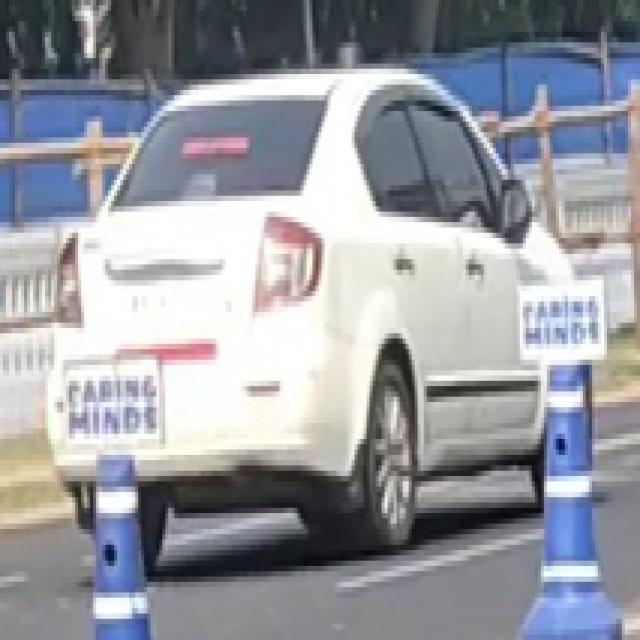car: (48, 69, 595, 545)
